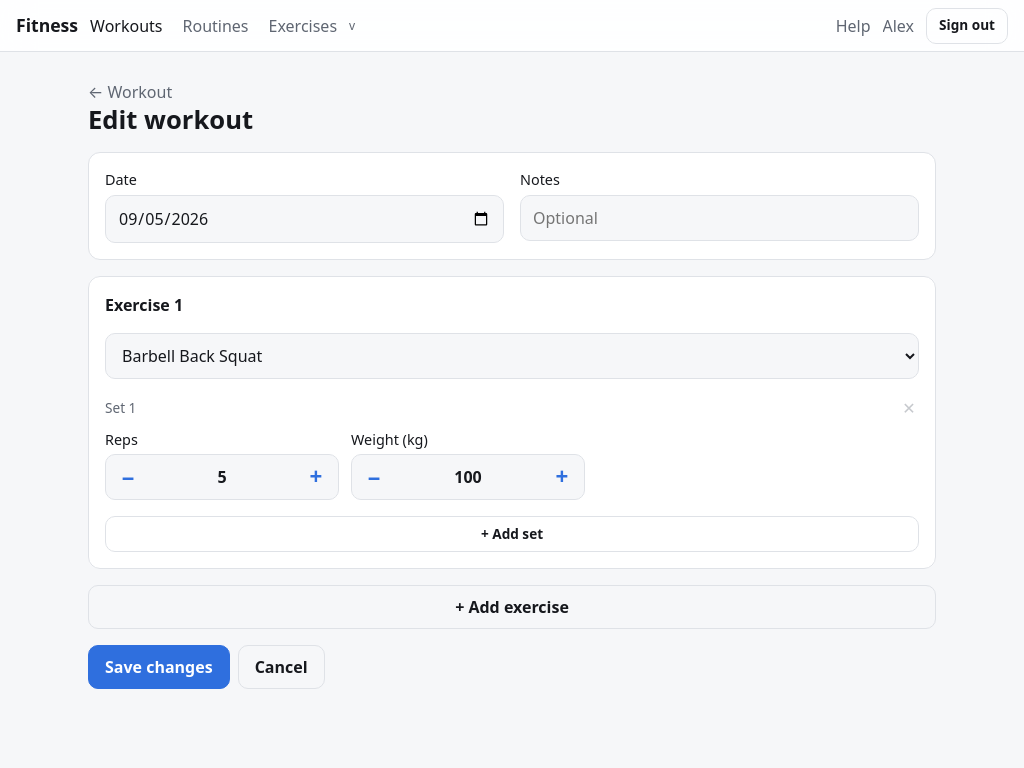
Scenario: logging a workout › lets a workout keep its own date when edited, but not move onto a taken one
In the date field labelled "Date": [304, 219] box [105,195,504,243], type "2026-09-02"
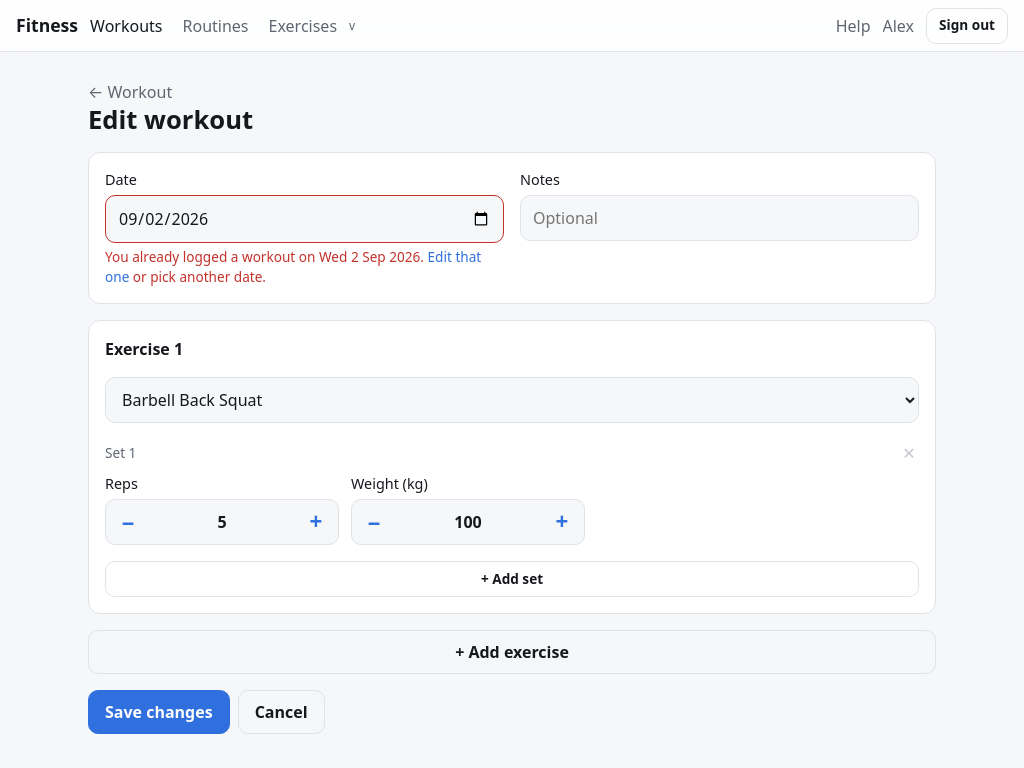
Check: the message shows "You already logged a workout", box [105,247,319,266]
